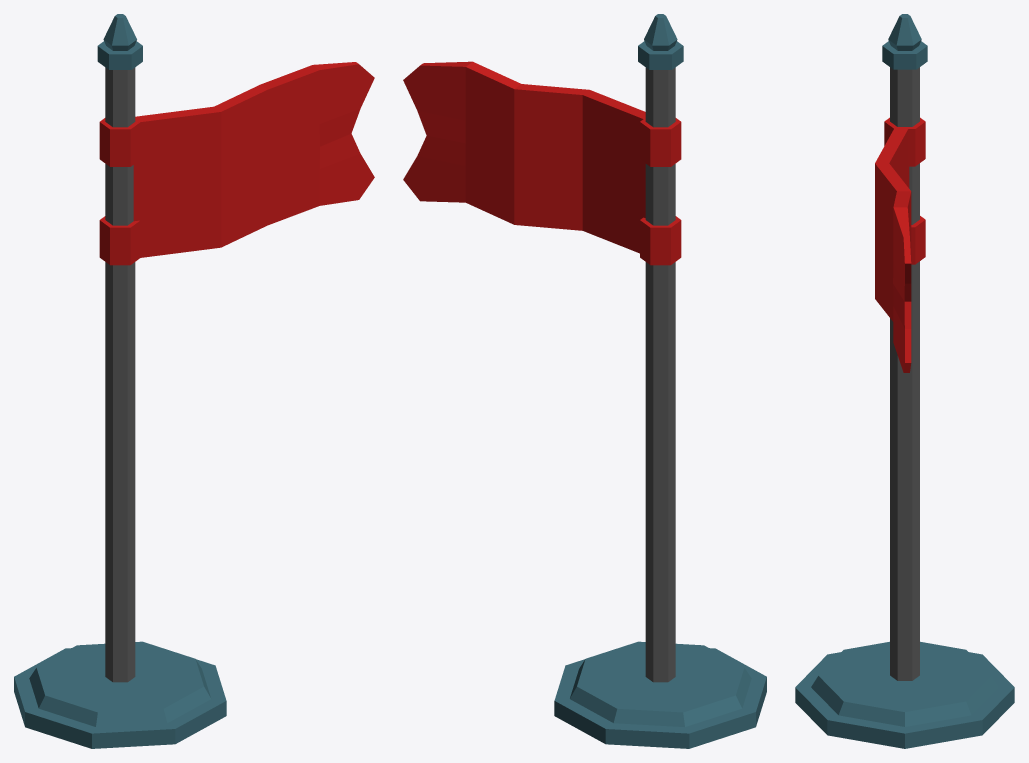
File: Flag.obj
3 views of the same model, side by side, from view 1: azimuth 30°, elevation 25°; view 2: azimuth 150°, elevation 25°; view 3: azimuth 270°, elevation 25° (orthographic).
Parts seen in each view (by area): view 1: Flag_Cylinder; view 2: Flag_Cylinder; view 3: Flag_Cylinder.
Part boxes in pixels (x1=…): Flag_Cylinder: x1=14, y1=14, x2=374, y2=748; Flag_Cylinder: x1=403, y1=14, x2=766, y2=748; Flag_Cylinder: x1=795, y1=14, x2=1014, y2=748.
Size of the model in its own units: 1.51 by 2.84 by 0.8238.
